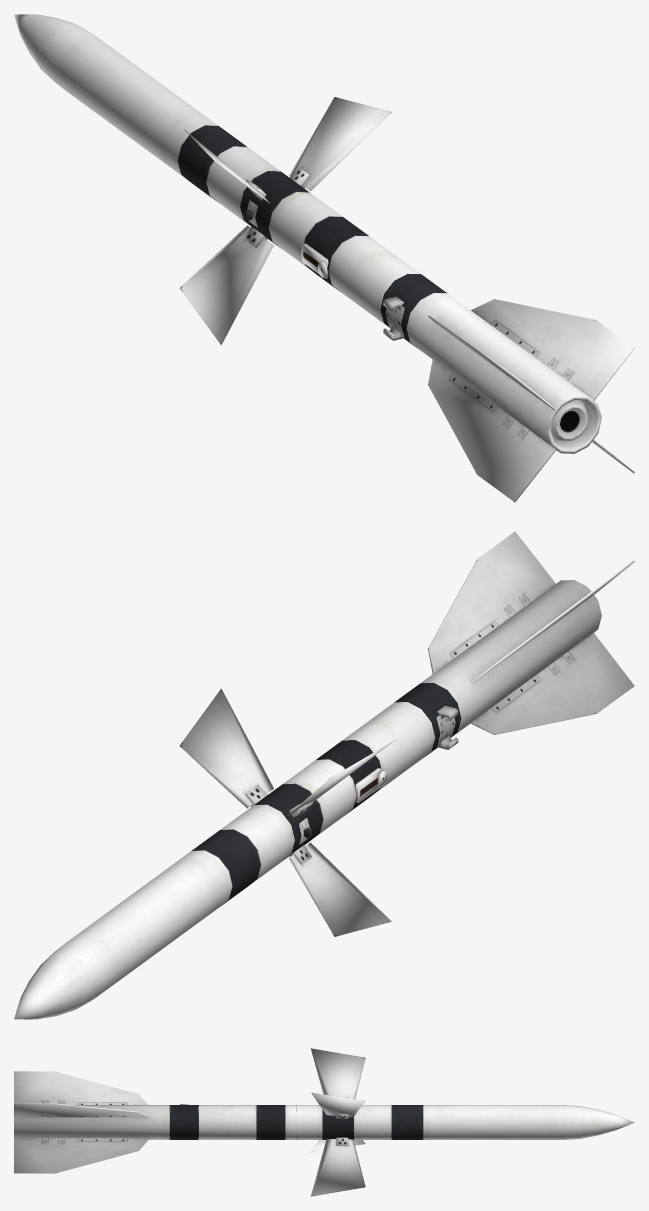
3 views of the same model, one above another, from view 1: azimuth 30°, elevation 25°; view 2: azimuth 150°, elevation 25°; view 3: azimuth 270°, elevation 25° (orthographic). The views are drawn at different scales.
Parts seen in each view (by area): view 1: R-27 (2)_5; view 2: R-27 (2)_5; view 3: R-27 (2)_5.
Boxes of the visible parts, x1,y1,x2,y2 form: R-27 (2)_5: (14,14,634,502); R-27 (2)_5: (14,531,634,1019); R-27 (2)_5: (14,1048,634,1196).
Size of the model in its own units: 0.7816 by 0.7816 by 4.14.
1 material, 1 textured.
